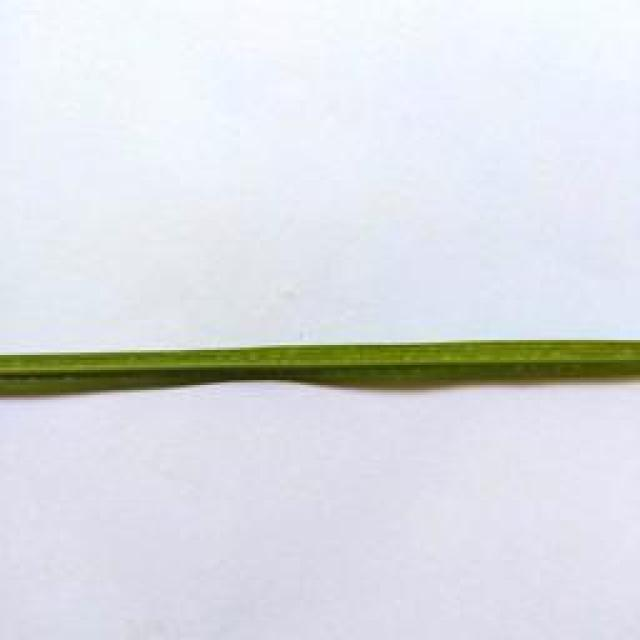Healthy-Plant: (0, 339, 640, 395)
